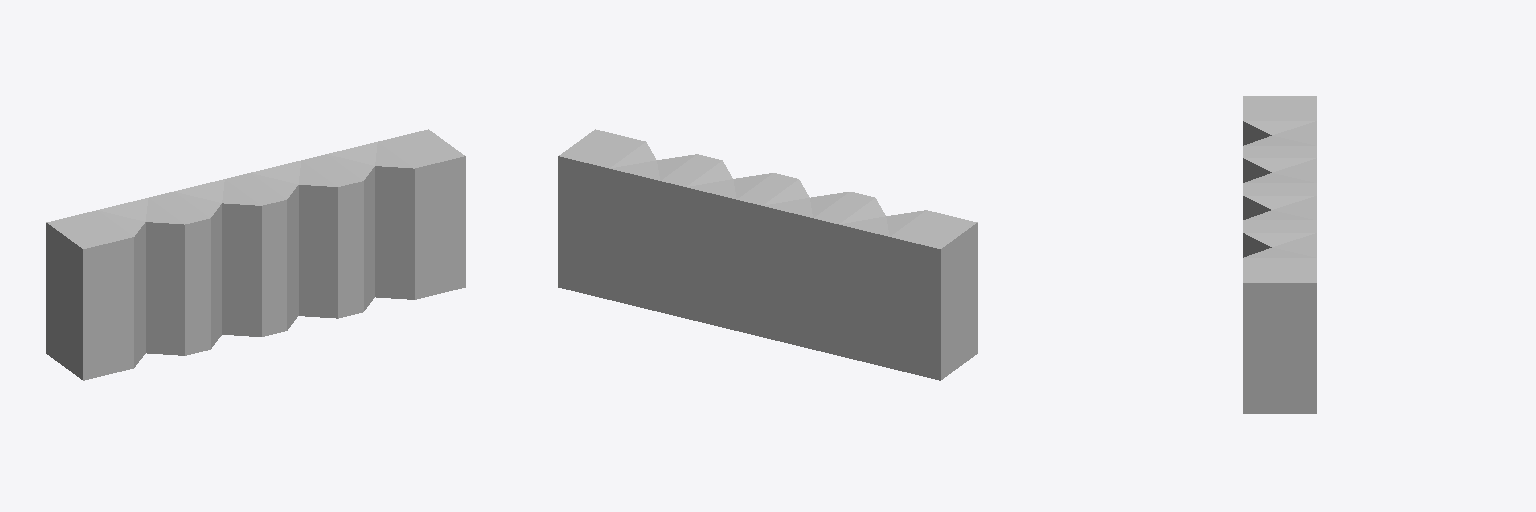
Rendered from left_gripper_finger_link_collisions_mesh.obj.
3 views of the same model, side by side, from view 1: azimuth 30°, elevation 25°; view 2: azimuth 150°, elevation 25°; view 3: azimuth 270°, elevation 25° (orthographic).
Size of the model in its own units: 0.15 by 0.05 by 0.025.